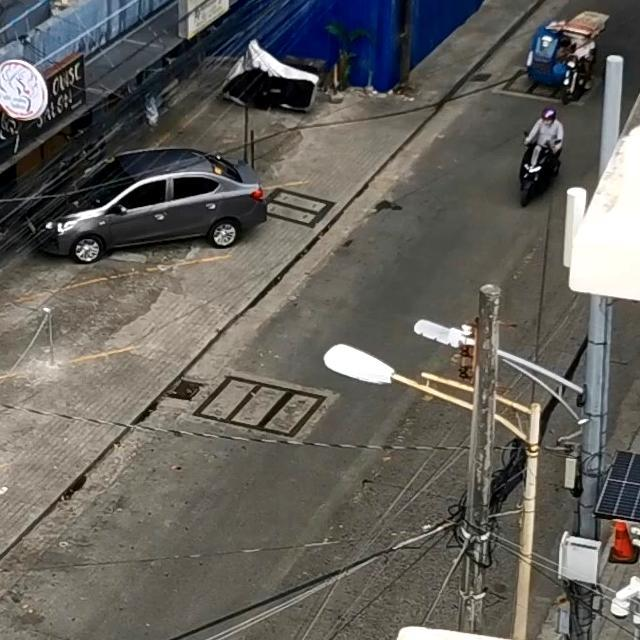Motorcycle: (501, 96, 572, 233)
